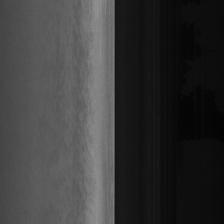silk_spot: (63, 45, 103, 193)
